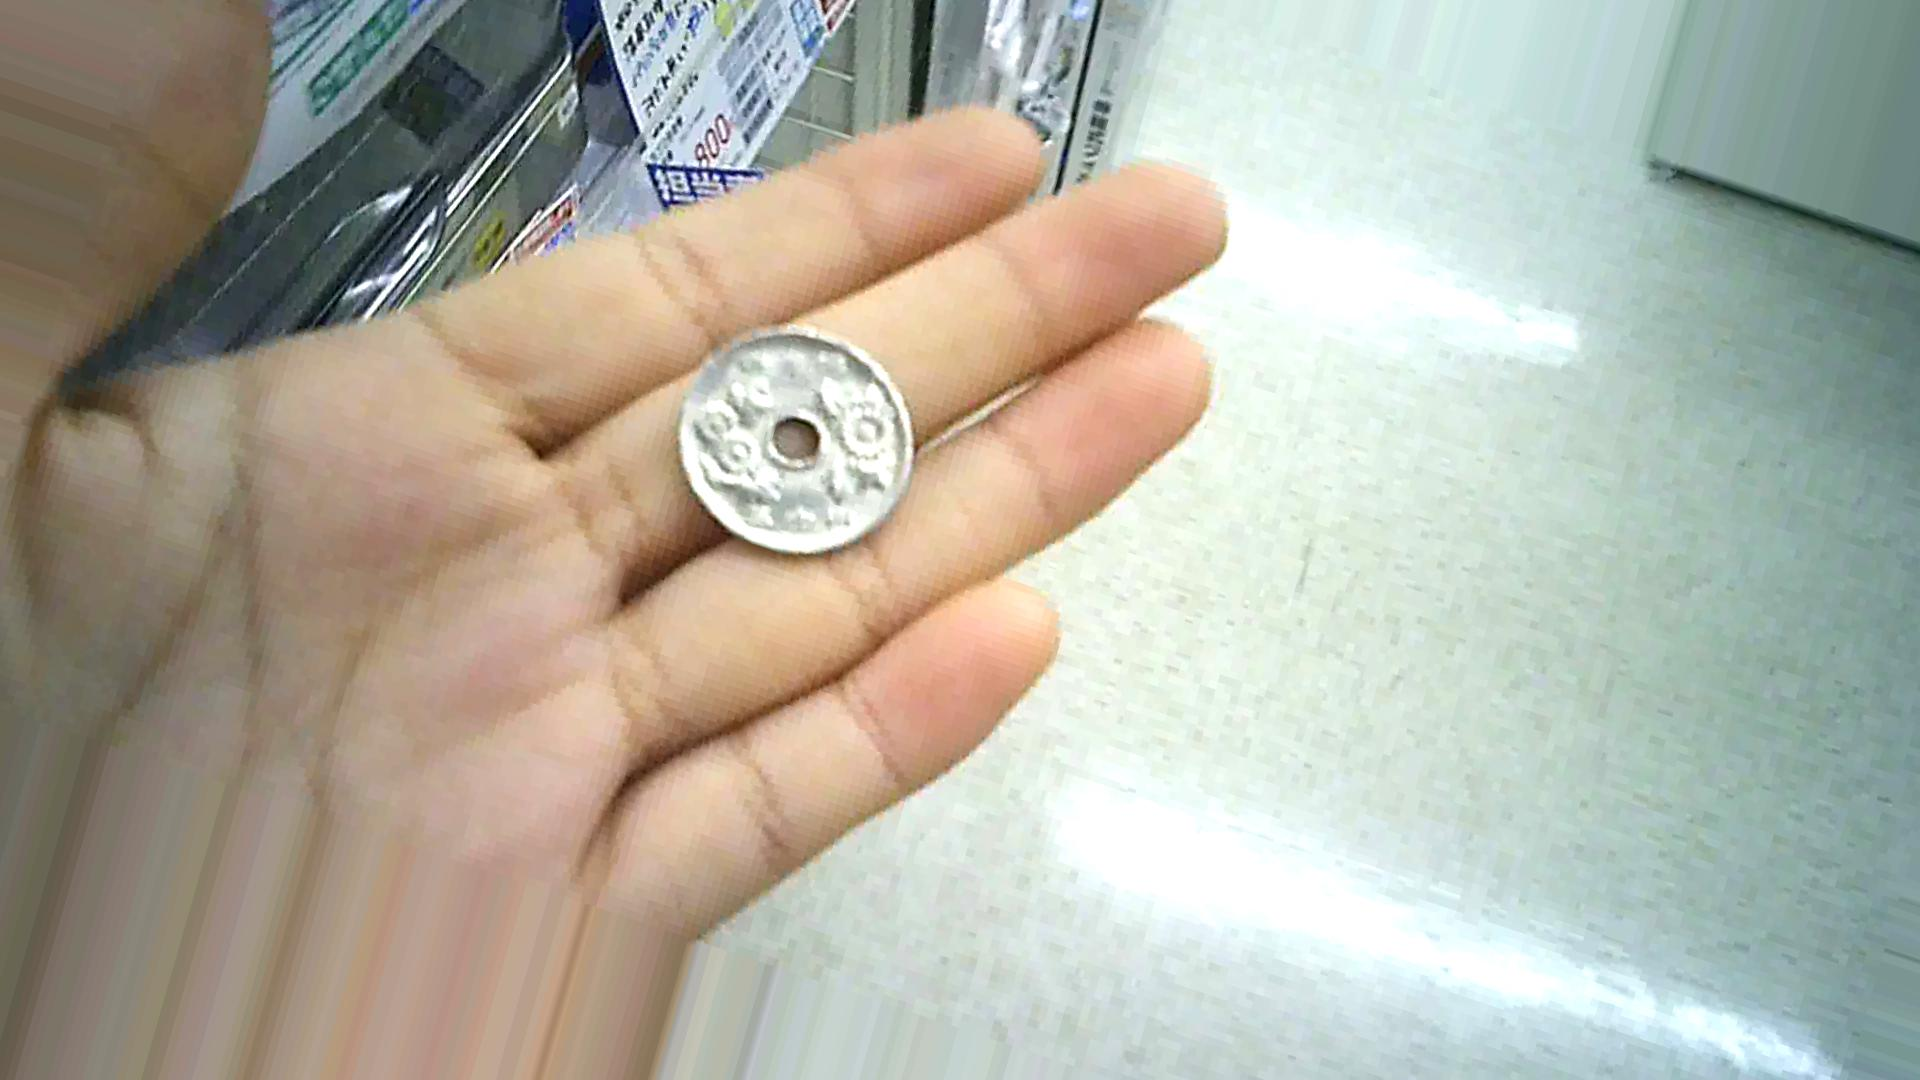50 Yen: (659, 309, 911, 558)
